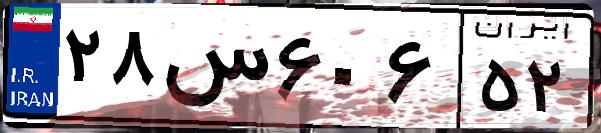0: (330, 28, 385, 110)
2: (57, 26, 110, 100), (525, 38, 570, 115)
5: (475, 38, 525, 113)
6: (270, 28, 330, 110), (385, 28, 445, 110)
8: (110, 28, 158, 98)
س: (158, 20, 270, 120)
